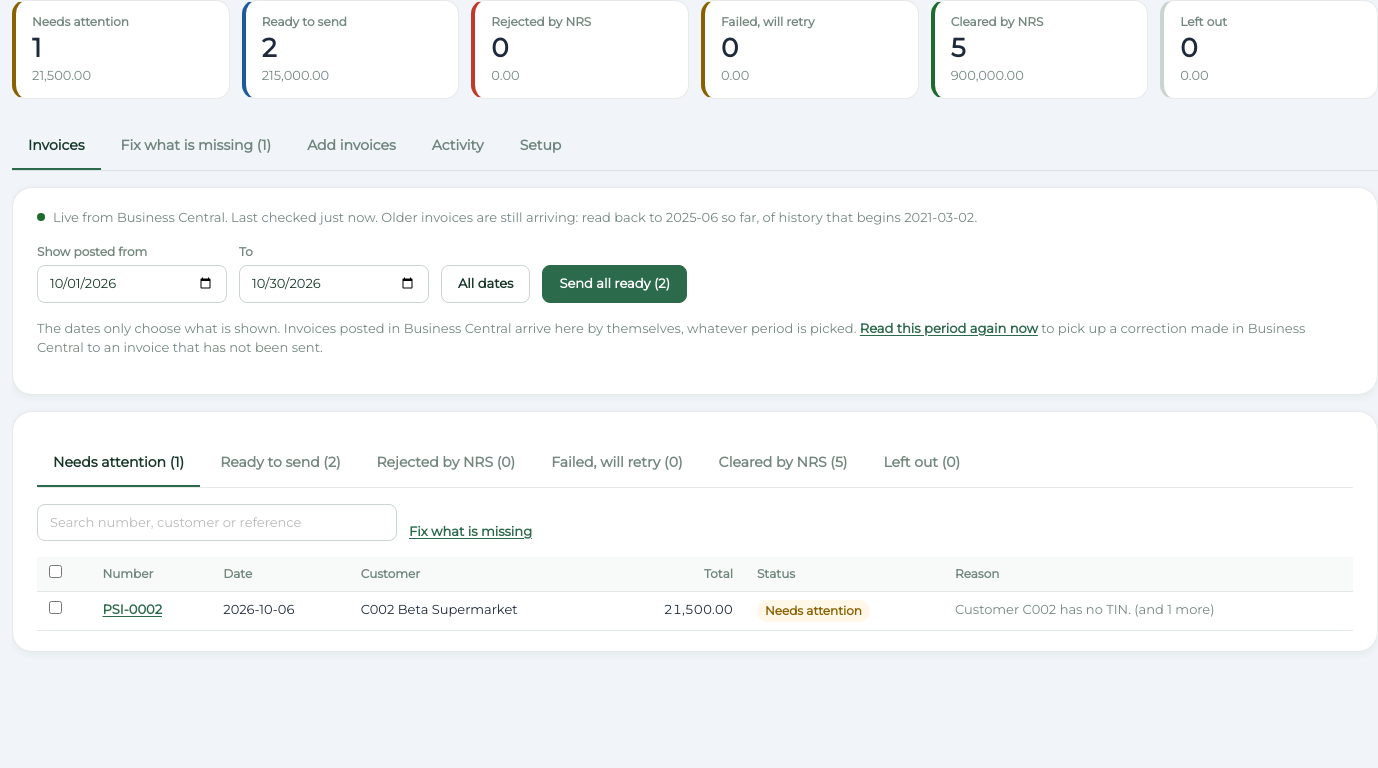
it: documents are listed by status with the reason each one is waiting
The image size is (1378, 768).
Expected: the text "Customer C002 has no TIN. (and 1 more)" is shown, [943, 592, 1353, 631]
Expected: the button "Send all ready (2)" is enabled, [542, 265, 687, 303]
Click the button "Ready to send (2)" at (280, 463), box [204, 440, 356, 487]
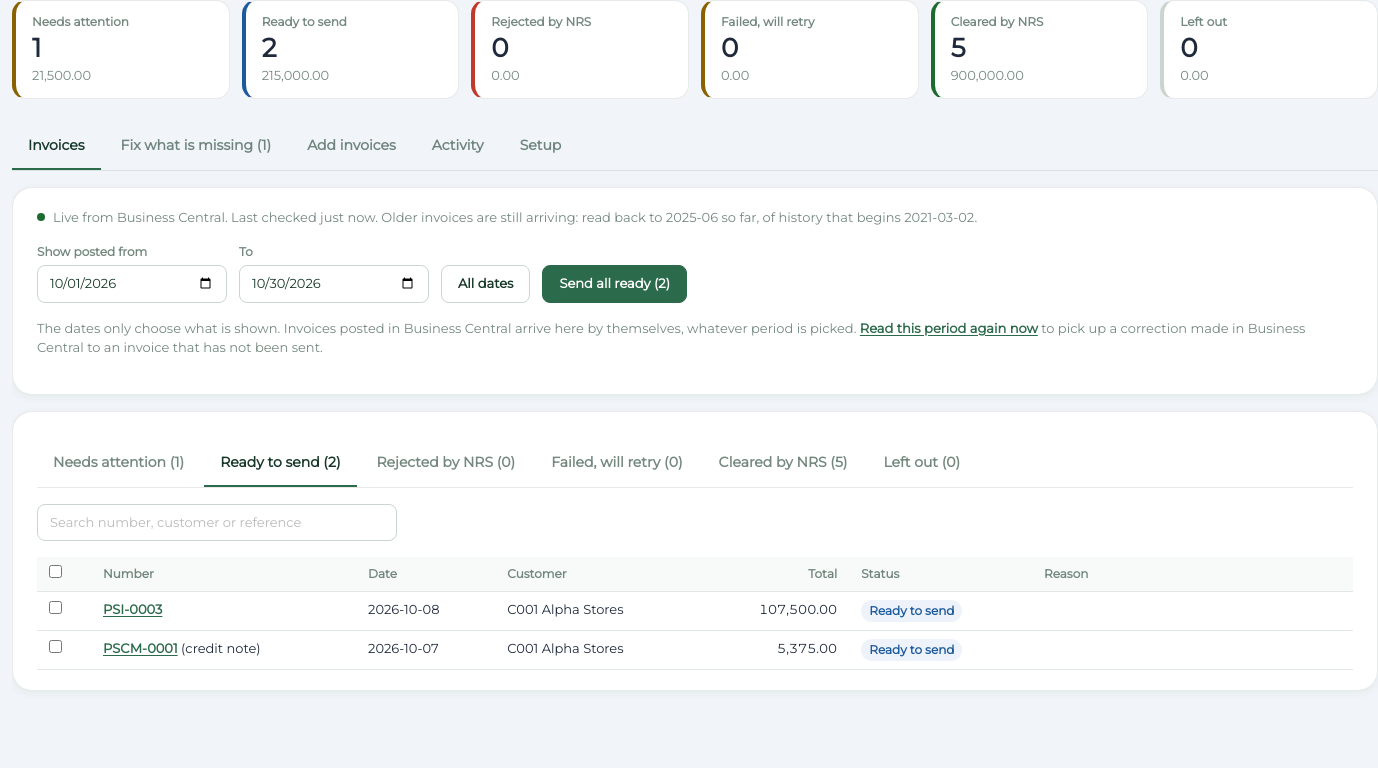
Expected: the button "PSCM-0001" is shown, [103, 639, 178, 659]
Expected: the text "(credit note)" is shown, [178, 640, 261, 656]
